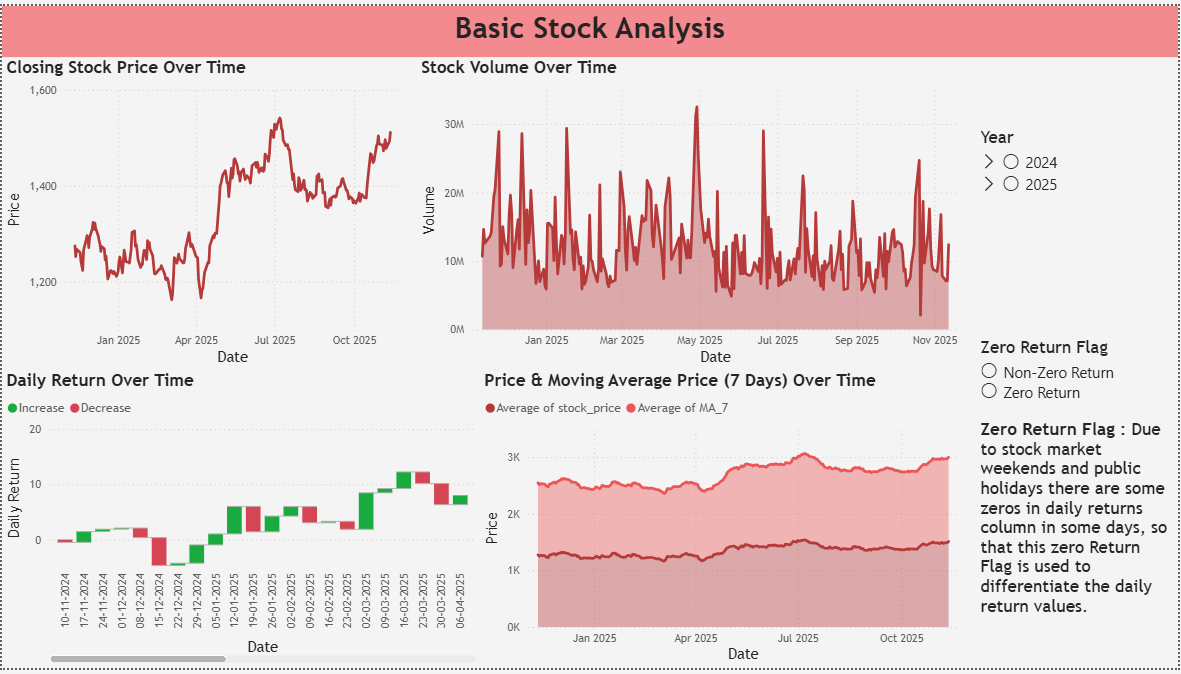

The dashboard page shown, as its layout file describes it:
{"tool":"powerbi","page":{"name":"Dashboard_1","canvas":[1280,720],"ordinal":0},"visuals":[{"type":"lineChart","title":"Closing Stock Price Over Time","fields":{"Y":["Avg(Reliance_Historical_Stock_Analysis.stock_price)"],"Category":["Reliance_Historical_Stock_Analysis.stock_date.Variation.Date Hierarchy.Year","Reliance_Historical_Stock_Analysis.stock_date.Variation.Date Hierarchy.Quarter","Reliance_Historical_Stock_Analysis.stock_date.Variation.Date Hierarchy.Month","Reliance_Historical_Stock_Analysis.stock_date.Variation.Date Hierarchy.Day"]},"box":[0,55.7,451.4,340],"z":0},{"type":"stackedAreaChart","title":"Stock Volume Over Time","fields":{"Category":["Reliance_Historical_Stock_Analysis.stock_date"],"Y":["Sum(Reliance_Historical_Stock_Analysis.stock_volume)"]},"box":[451.4,55.7,608.6,340],"z":1000},{"type":"waterfallChart","title":"Daily Return Over Time","fields":{"Y":["Sum(Reliance_Historical_Stock_Analysis.daily_return)"],"Category":["Reliance_Historical_Stock_Analysis.stock_date (bins)"]},"box":[0,395.7,520,324.3],"z":2000},{"type":"stackedAreaChart","title":"Price & Moving Average Price (7 Days) Over Time","fields":{"Category":["Reliance_Historical_Stock_Analysis.stock_date.Variation.Date Hierarchy.Year","Reliance_Historical_Stock_Analysis.stock_date.Variation.Date Hierarchy.Quarter","Reliance_Historical_Stock_Analysis.stock_date.Variation.Date Hierarchy.Month","Reliance_Historical_Stock_Analysis.stock_date.Variation.Date Hierarchy.Day"],"Y":["Avg(Reliance_Historical_Stock_Analysis.stock_price)","Avg(Reliance_Historical_Stock_Analysis.MA_7)"]},"box":[520,395.7,540,324.3],"z":3000},{"type":"listSlicer","fields":{"Values":["Reliance_Historical_Stock_Analysis.stock_date.Variation.Date Hierarchy.Year","Reliance_Historical_Stock_Analysis.stock_date.Variation.Date Hierarchy.Quarter","Reliance_Historical_Stock_Analysis.stock_date.Variation.Date Hierarchy.Month","Reliance_Historical_Stock_Analysis.stock_date.Variation.Date Hierarchy.Day"]},"box":[1060,131.4,220,228.6],"z":4000},{"type":"listSlicer","title":"Zero Return Flag","fields":{"Values":["Reliance_Historical_Stock_Analysis.ZeroReturnFlag"]},"box":[1060,360,220,212.9],"z":5000},{"type":"textbox","box":[0,0,1280,55.7],"z":5001},{"type":"textbox","box":[1060,444.3,220,237.1],"z":5002}]}

Visuals, with their boxes in screenshot pixels (x1, y1, x2, y2), scaled from the page's 1280x720 canvas onto the 1181x674 screenshot:
"Closing Stock Price Over Time" lineChart: left=0, top=52, right=416, bottom=370
"Stock Volume Over Time" stackedAreaChart: left=416, top=52, right=978, bottom=370
"Daily Return Over Time" waterfallChart: left=0, top=370, right=480, bottom=673
"Price & Moving Average Price (7 Days) Over Time" stackedAreaChart: left=480, top=370, right=978, bottom=673
listSlicer - Reliance_Historical_Stock_Analysis.stock_date.Variation.Date Hierarchy.Year x Reliance_Historical_Stock_Analysis.stock_date.Variation.Date Hierarchy.Quarter: left=978, top=123, right=1180, bottom=337
"Zero Return Flag" listSlicer: left=978, top=337, right=1180, bottom=536
textbox: left=0, top=0, right=1180, bottom=52
textbox: left=978, top=416, right=1180, bottom=638
